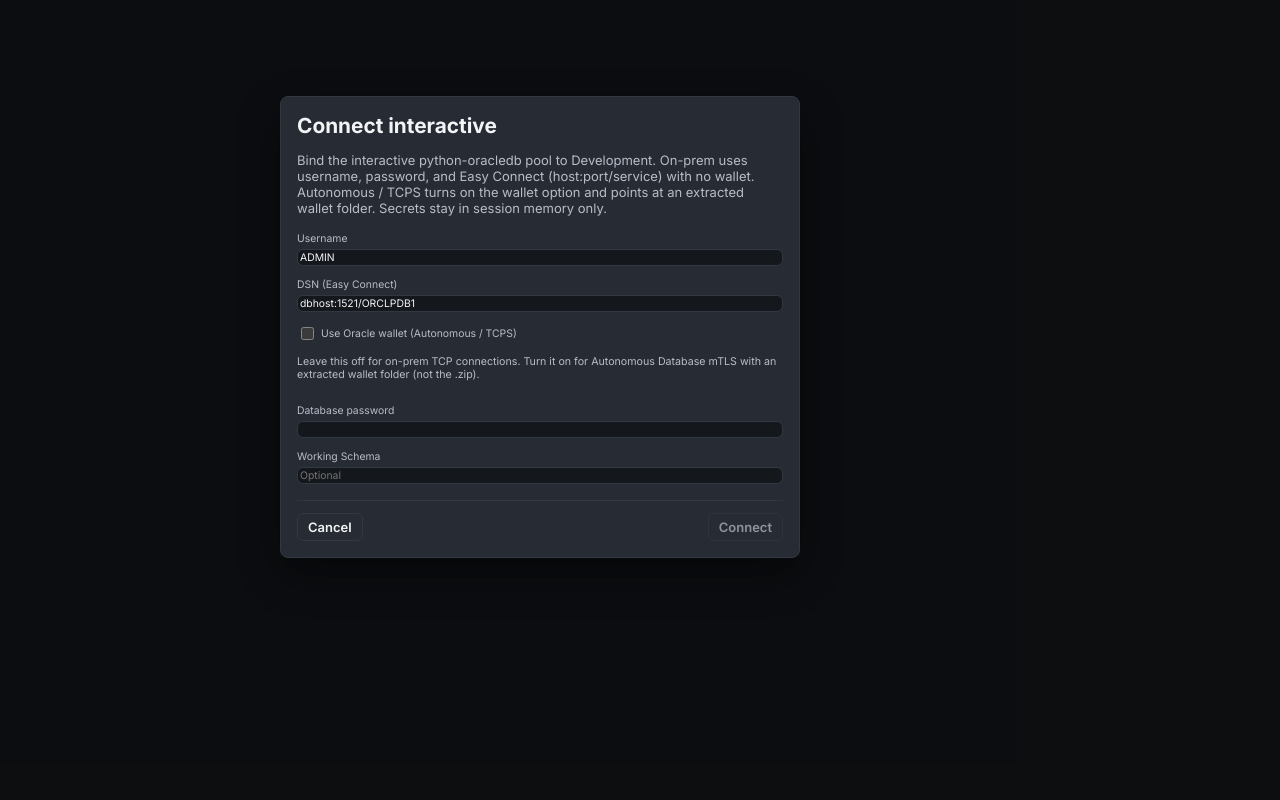
Test: InteractiveConnectDialog › turns wallet mode on when an Autonomous descriptor is pasted
Check: the checkbox labelled "Use Oracle wallet (Autonomous / TCPS)" is not checked, box [301, 327, 314, 340]
Type "(description=(address=(protocol=tcps)(port=1522)(host=adb.us-phoenix-1.oraclecloud.com)))" into the field labelled "DSN (Easy Connect)".
click(540, 304); type("(description=(address=(protocol=tcps)(port=1522)(host=adb.us-phoenix-1.oraclecloud.com)))")  # box [297, 295, 783, 312]
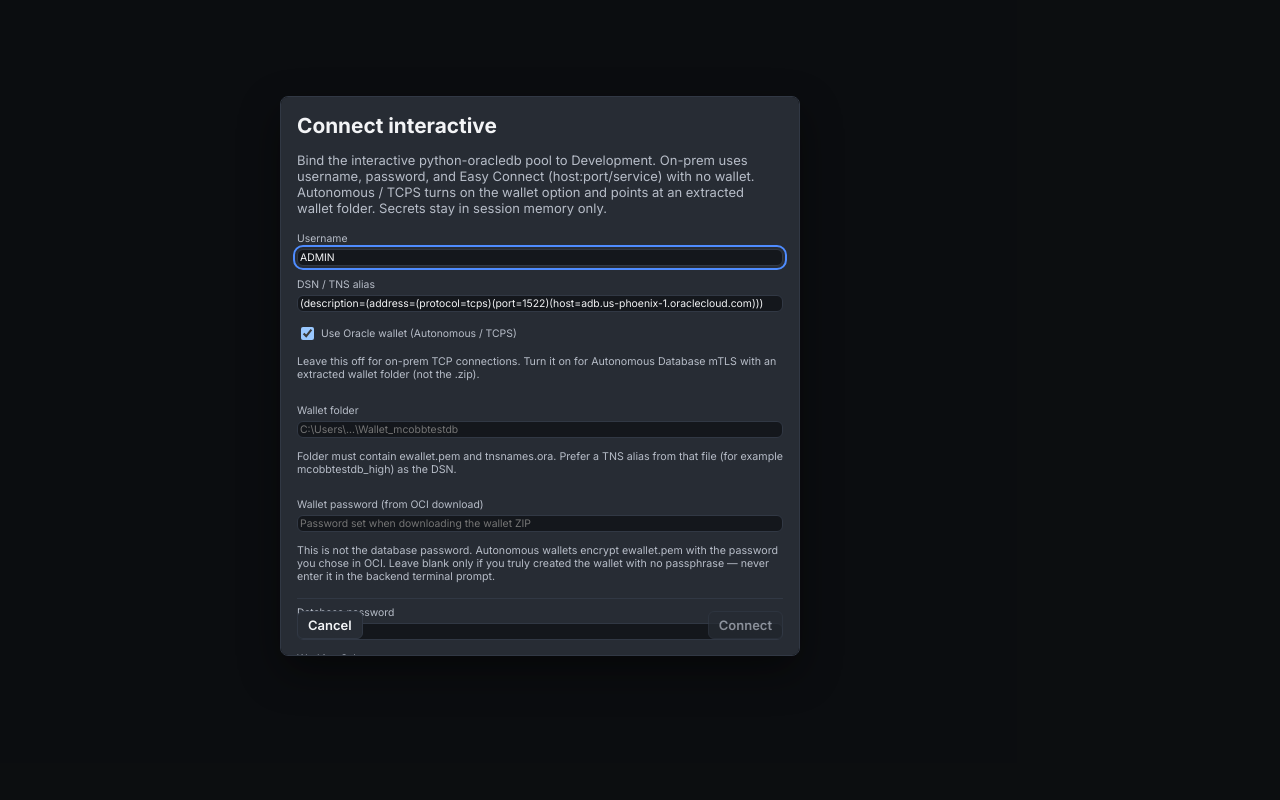
Check: the checkbox labelled "Use Oracle wallet (Autonomous / TCPS)" is checked, box [301, 327, 314, 340]
Check: the field labelled "Wallet folder" is shown, box [297, 421, 783, 438]
